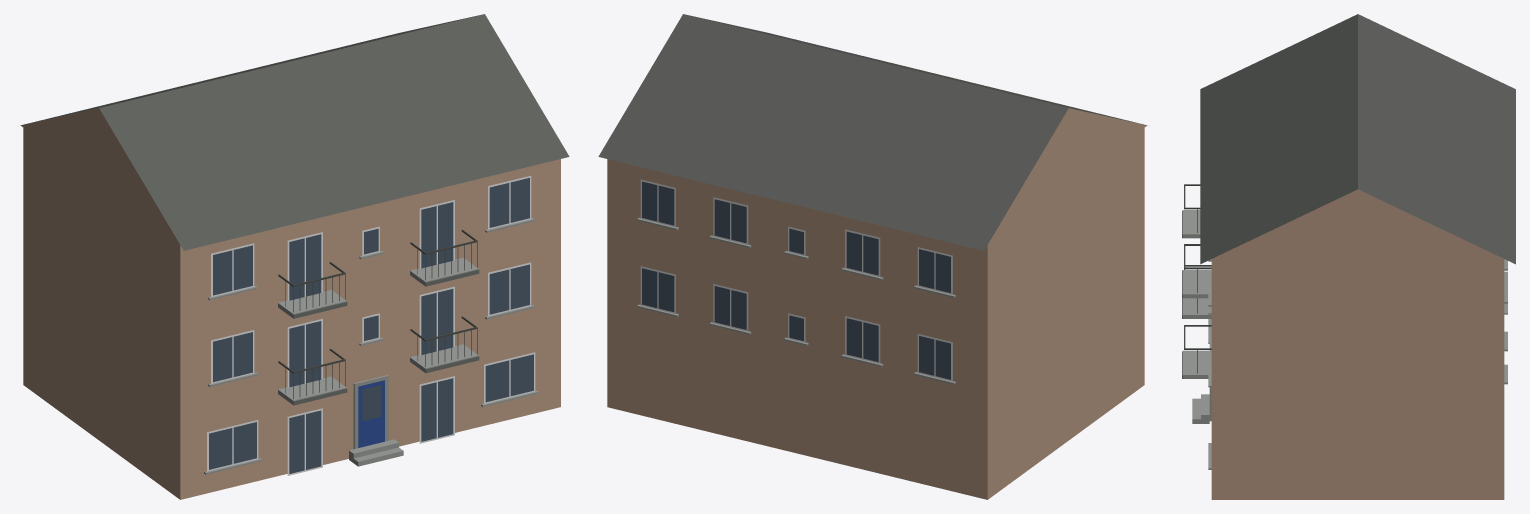
The model's file is nw-portiek-3st-blue-door__brick-white__3__gable__long__solid.glb.
3 renders of one model, left to right at view 1: azimuth 30°, elevation 25°; view 2: azimuth 150°, elevation 25°; view 3: azimuth 270°, elevation 25°, orthographic. The views are drawn at different scales.
Parts seen in each view (by area): view 1: nw-portiek-3st-blue-door__brick-white__3__gable__long__solid; view 2: nw-portiek-3st-blue-door__brick-white__3__gable__long__solid; view 3: nw-portiek-3st-blue-door__brick-white__3__gable__long__solid.
Part boxes in pixels (x1,y1,x2,y2): nw-portiek-3st-blue-door__brick-white__3__gable__long__solid: (20,14,569,499); nw-portiek-3st-blue-door__brick-white__3__gable__long__solid: (598,14,1147,499); nw-portiek-3st-blue-door__brick-white__3__gable__long__solid: (1182,14,1515,499).
Bounding box in the file's own units: 14.43 × 12.04 × 11.62.
